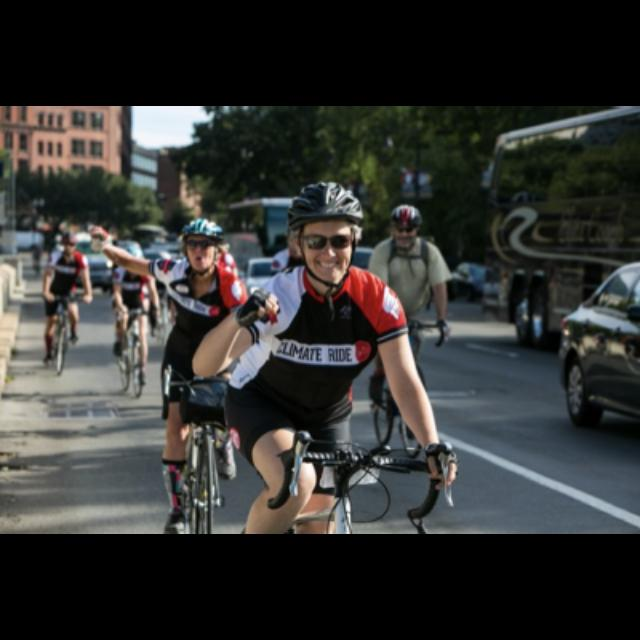With Helmet: (284, 175, 366, 293), (174, 212, 232, 278)
